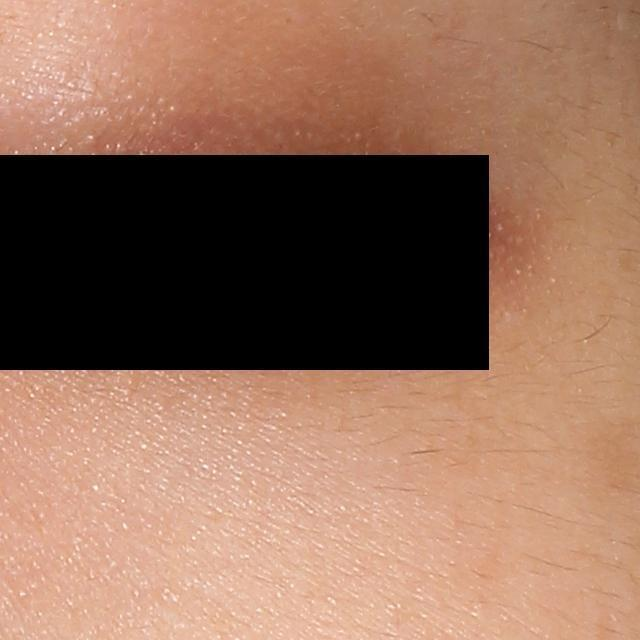melasma: (587, 425, 637, 488)
